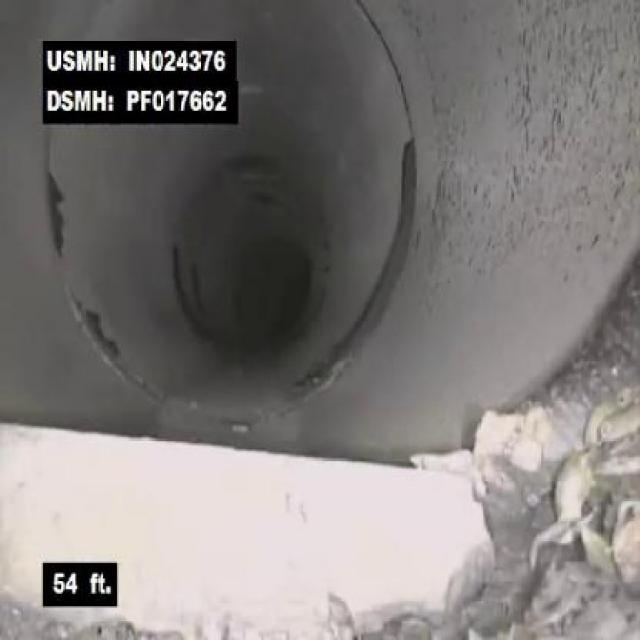Obstacle: (120, 386, 525, 639)
